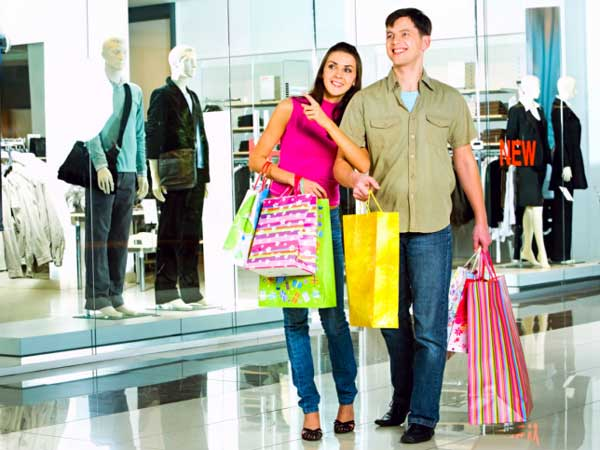Person: (356, 5, 477, 436), (250, 39, 361, 443)
